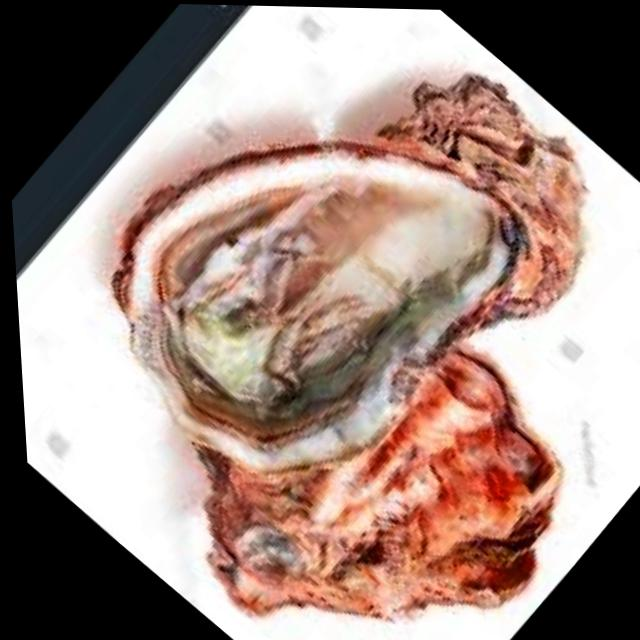Oyster-Closed: (198, 349, 562, 619), (346, 73, 587, 316)
Oyster-Open: (114, 144, 517, 471)
